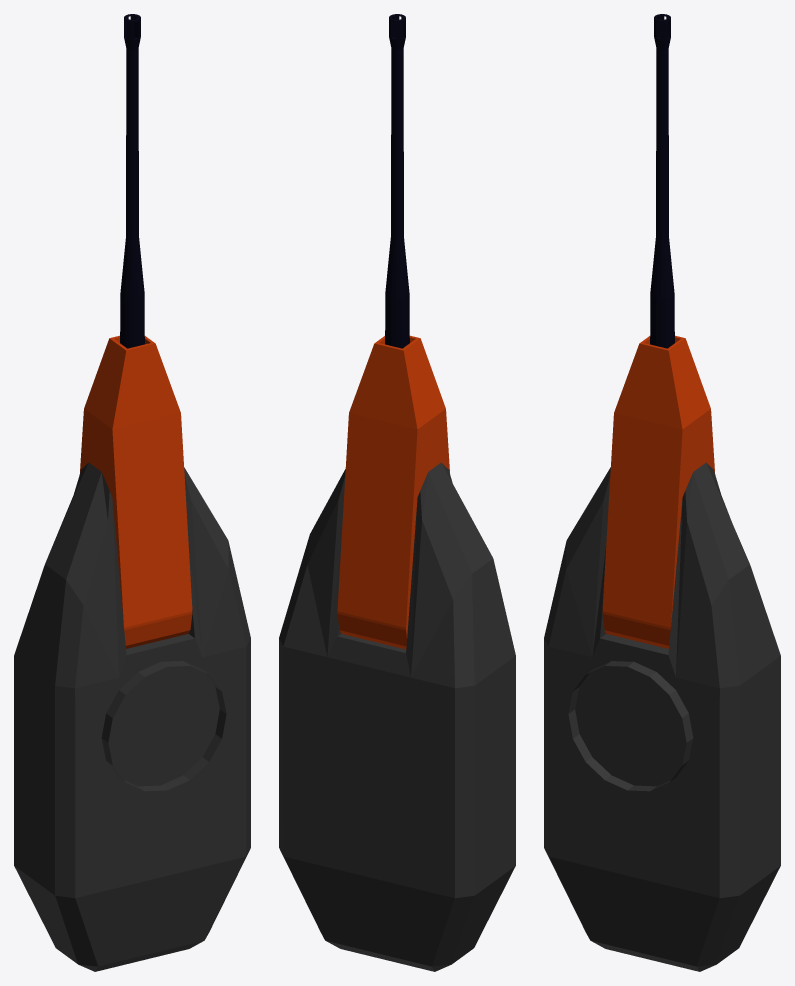
File: cannon.fbx
3 renders of one model, left to right at view 1: azimuth 30°, elevation 25°; view 2: azimuth 150°, elevation 25°; view 3: azimuth 330°, elevation 25°, orthographic.
Parts seen in each view (by area): view 1: Body, BarrelMount, Barrel; view 2: Body, BarrelMount, Barrel; view 3: Body, BarrelMount, Barrel.
Part boxes in pixels (x1,y1,x2,y2): Body: (14, 462, 250, 971); BarrelMount: (80, 335, 192, 648); Barrel: (120, 14, 144, 348); Body: (279, 462, 515, 971); BarrelMount: (337, 335, 449, 649); Barrel: (385, 14, 409, 348); Body: (544, 462, 780, 971); BarrelMount: (602, 335, 714, 648); Barrel: (650, 14, 674, 348).
Bounding box in the file's own units: 133 × 605 × 74.13.
